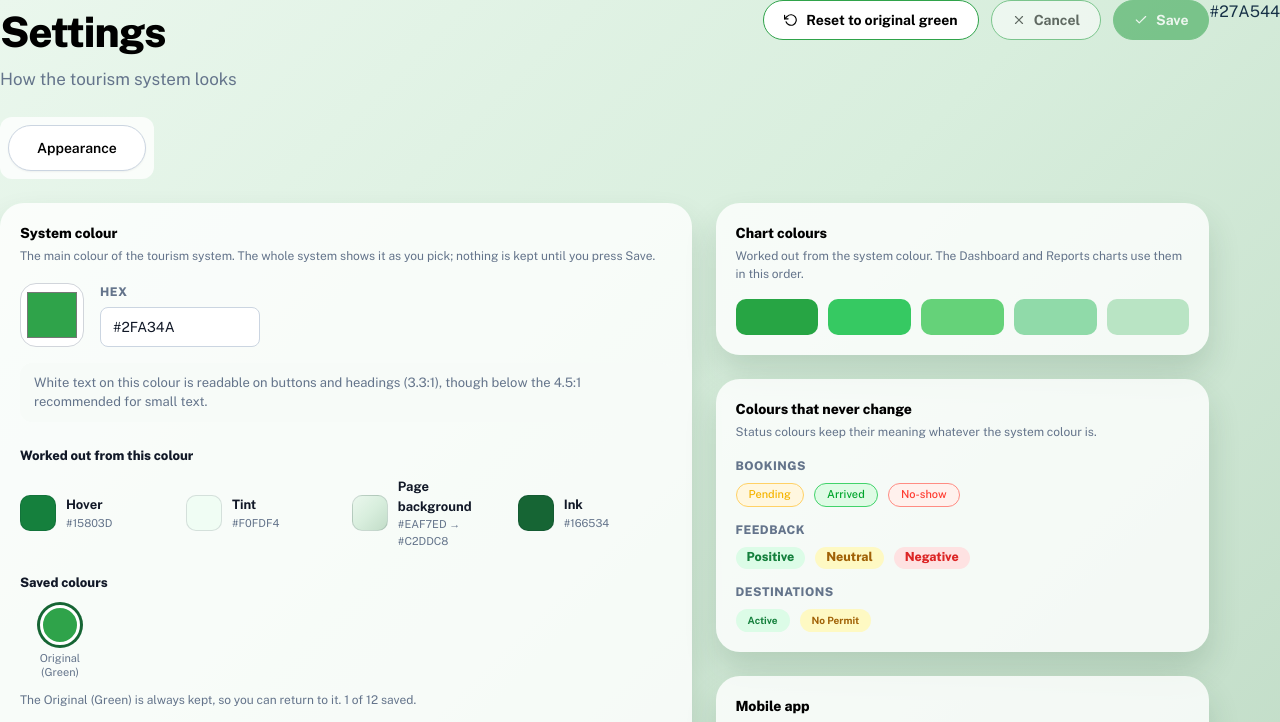
Test: Settings: system colour › the hex field previews too, and rejects a malformed value
Replace the text in the field named "System colour hex" with "ef7c1f" at (180, 326), box [100,306,260,346]
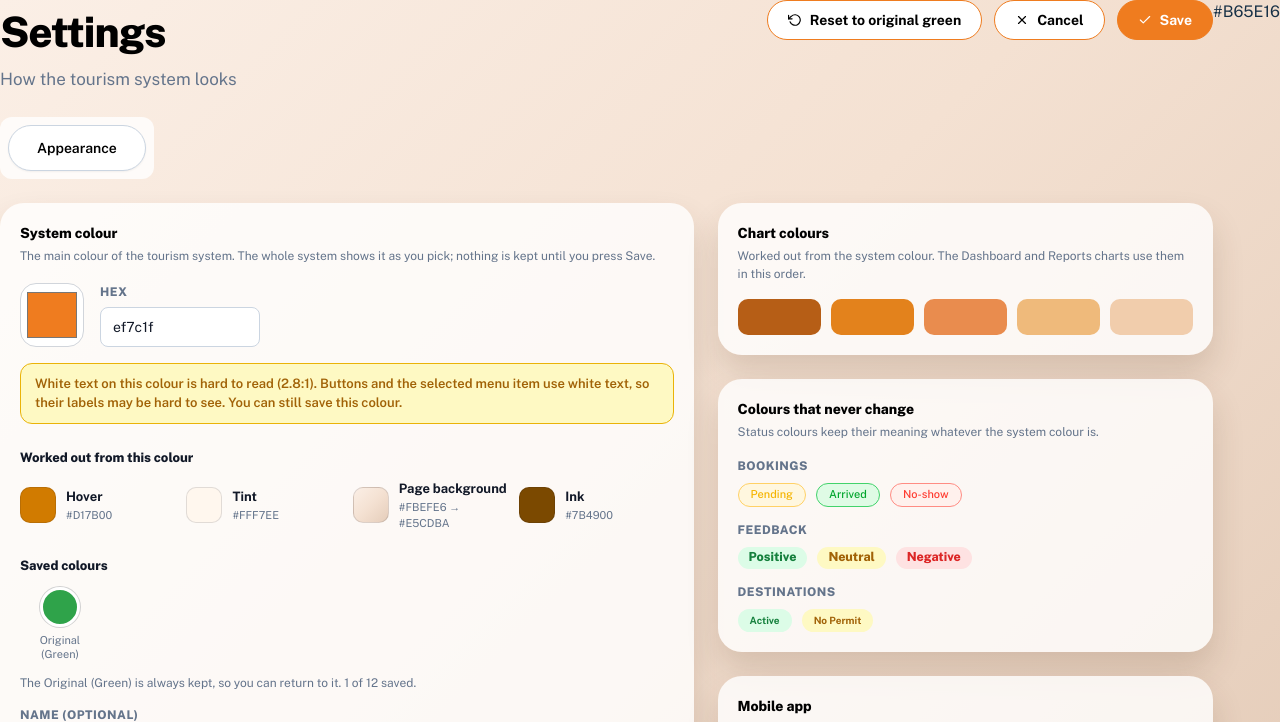
Replace the text in the field named "System colour hex" with "#12" at (180, 326), box [100,306,260,346]
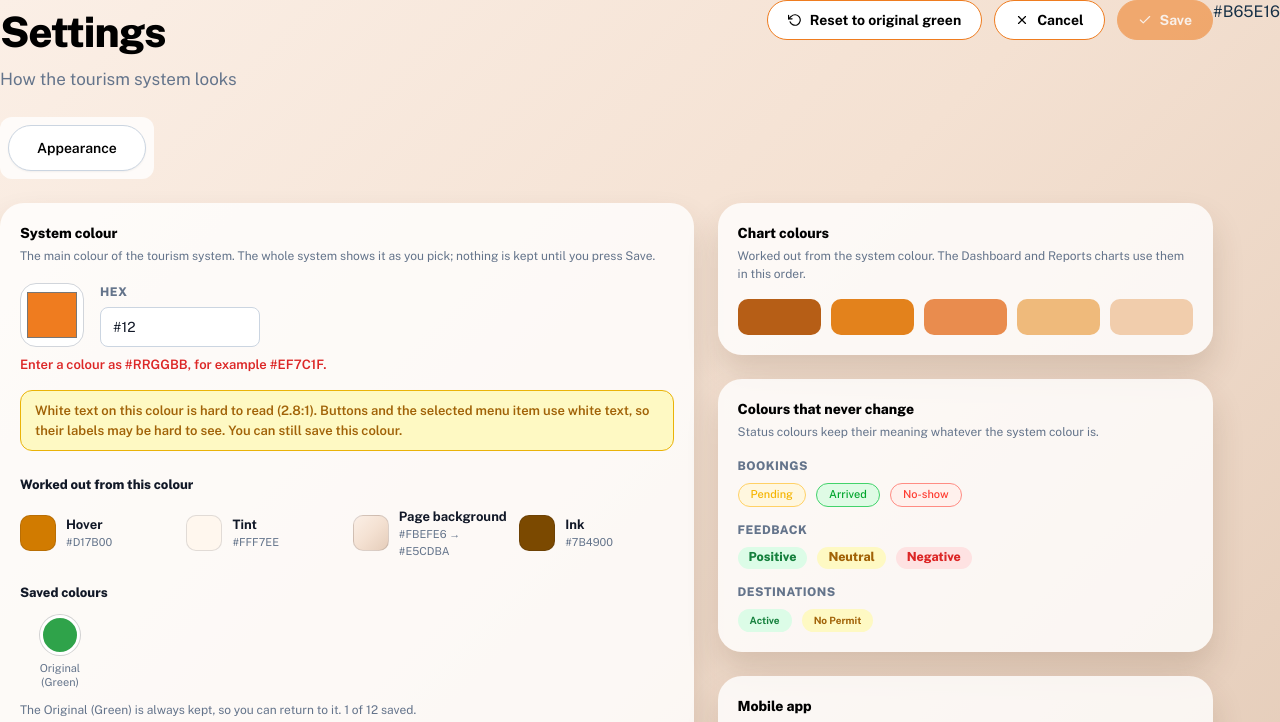
Expected: the text "Enter a colour as #RRGGBB, for example #EF7C1F." is shown, [20,356,326,372]
Expected: the button "Save" is disabled, [1117,0,1213,40]
